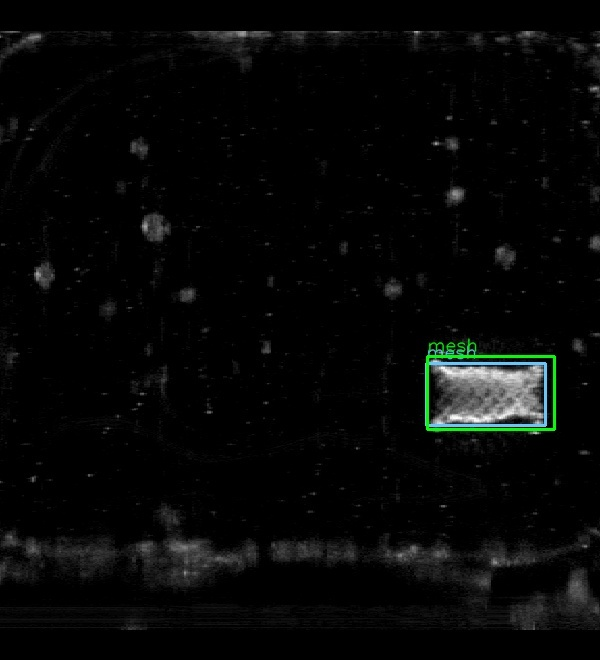mesh: (426, 363, 545, 425)
